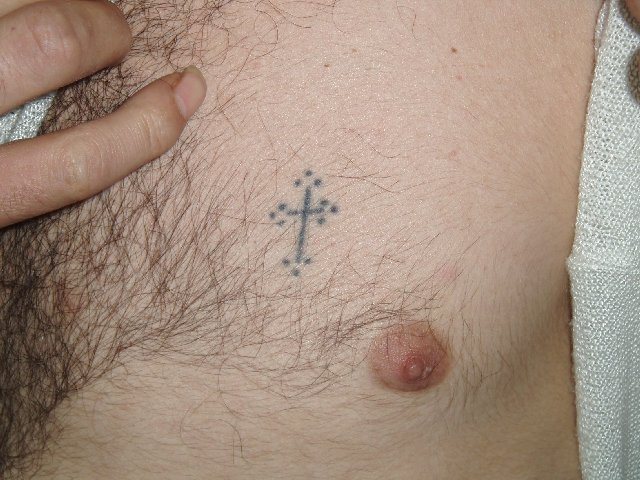tatu9_krest: (269, 154, 338, 280)
